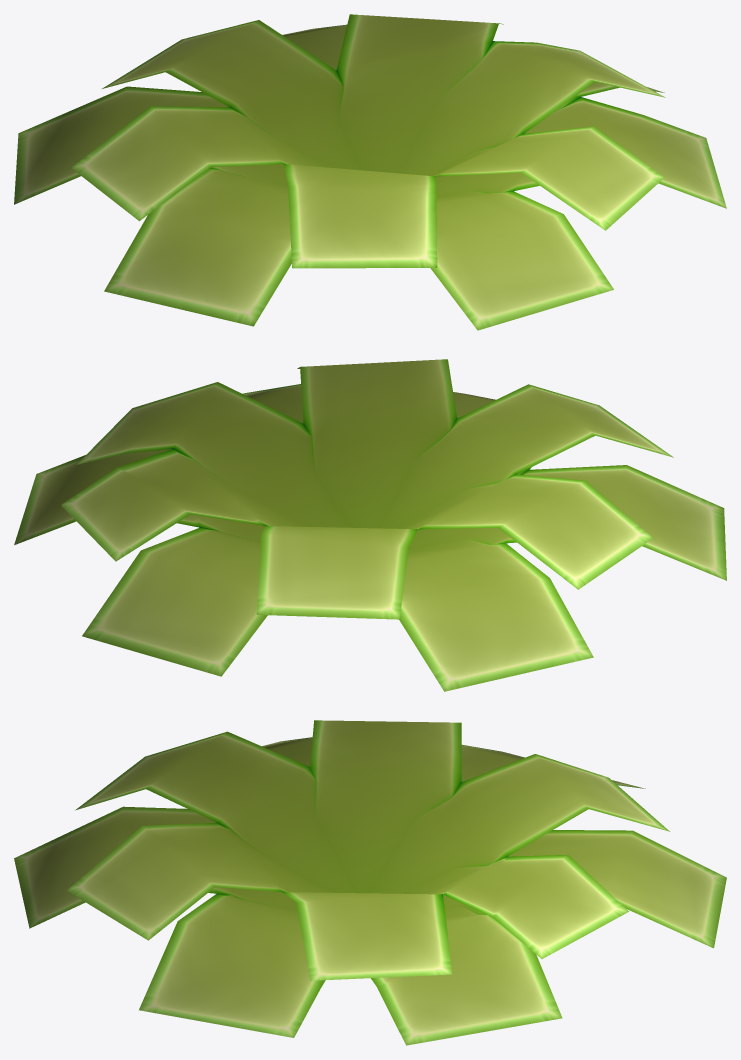
Rendered from SM_Plant_01_A.fbx.
3 views of the same model, one above another, from view 1: azimuth 30°, elevation 25°; view 2: azimuth 150°, elevation 25°; view 3: azimuth 270°, elevation 25° (orthographic).
Parts seen in each view (by area): view 1: polySurface627; view 2: polySurface627; view 3: polySurface627.
Part boxes in pixels (left/top/right/bottom): polySurface627: left=14, top=14, right=726, bottom=330; polySurface627: left=14, top=359, right=726, bottom=691; polySurface627: left=14, top=720, right=726, bottom=1045.
Bounding box in the file's own units: 82.29 × 13.91 × 81.5.
